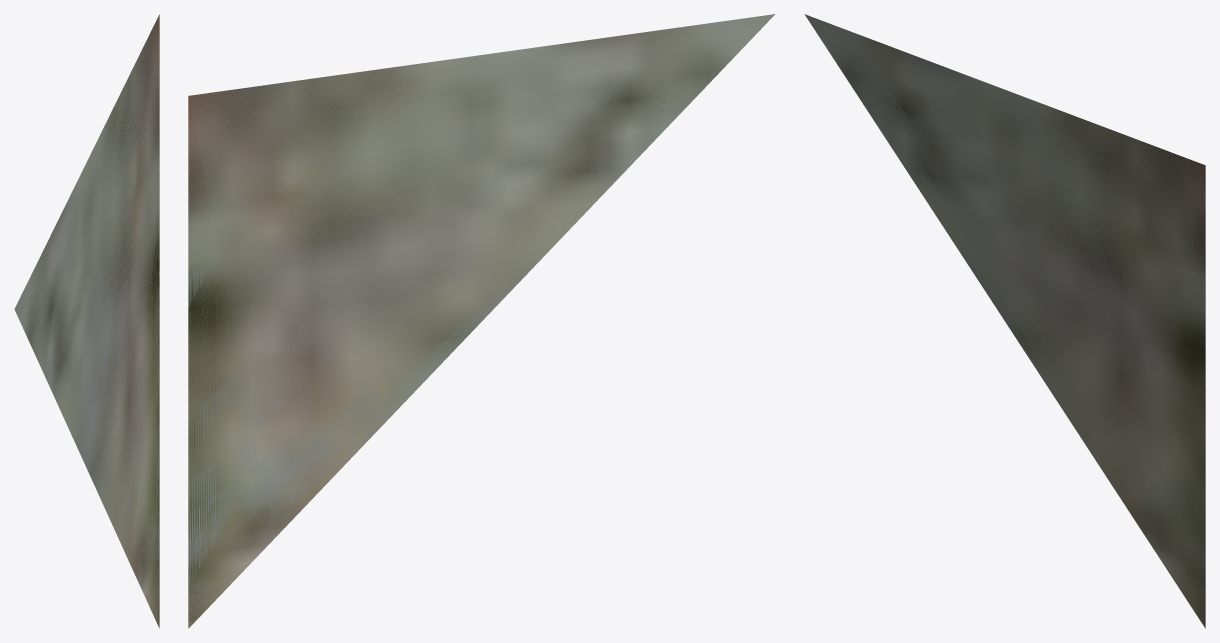
File: 西庸城堡471.dae
The picture shows the model from 3 angles, left to right: view 1: azimuth 30°, elevation 25°; view 2: azimuth 150°, elevation 25°; view 3: azimuth 270°, elevation 25°; orthographic projection. The views are drawn at different scales.
Visible parts, largest first — view 1: SketchUp; view 2: SketchUp; view 3: SketchUp.
Boxes of the visible parts, x1,y1,x2,y2 form: SketchUp: [14, 14, 159, 628]; SketchUp: [188, 14, 775, 628]; SketchUp: [804, 14, 1205, 628].
Size of the model in its own units: 35.83 by 40.16 by 51.18.
